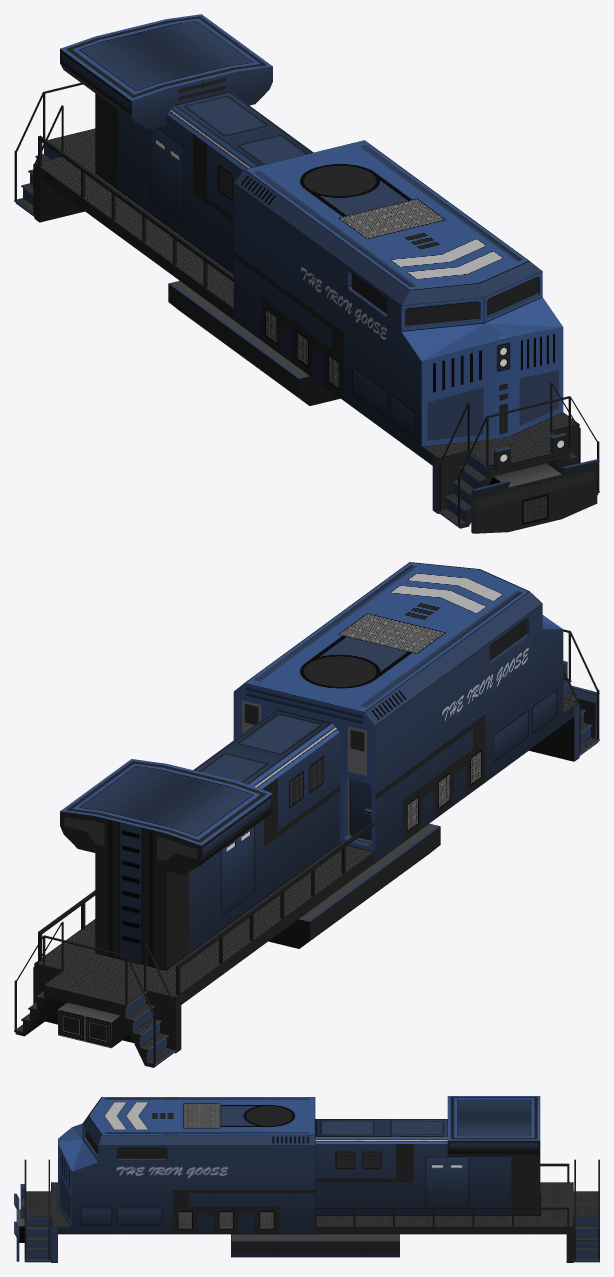
The model's file is train_002c.fbx.
The picture shows the model from 3 angles, top to bottom: view 1: azimuth 30°, elevation 25°; view 2: azimuth 150°, elevation 25°; view 3: azimuth 270°, elevation 25°; orthographic projection. The views are drawn at different scales.
Visible parts, largest first — view 1: main; view 2: main; view 3: main.
Part boxes in pixels (x1,y1,x2,y2): main: (14, 14, 599, 533); main: (14, 562, 599, 1067); main: (14, 1096, 599, 1262).
Bounding box in the file's own units: 400 × 545 × 2216.
